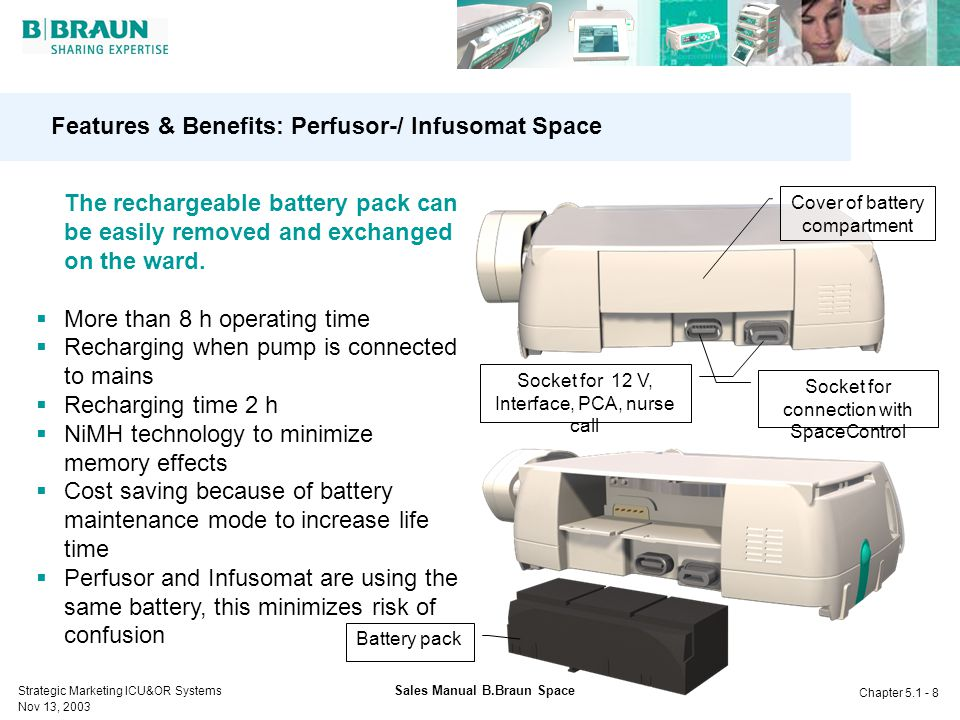BBraun Infusomat Space: (477, 448, 917, 621)
